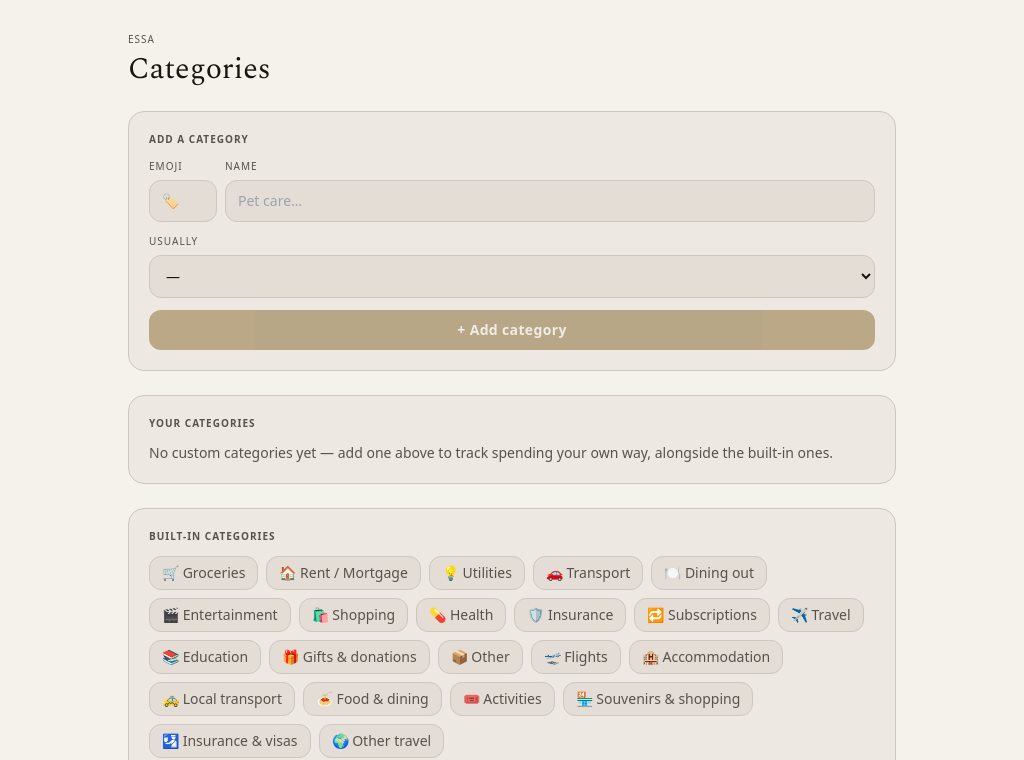
Test case: adding a category named like a built-in one is refused, and says why
Type "  shopping " into the field with id "new-cat-name" at (550, 201), box [225,180,875,222]
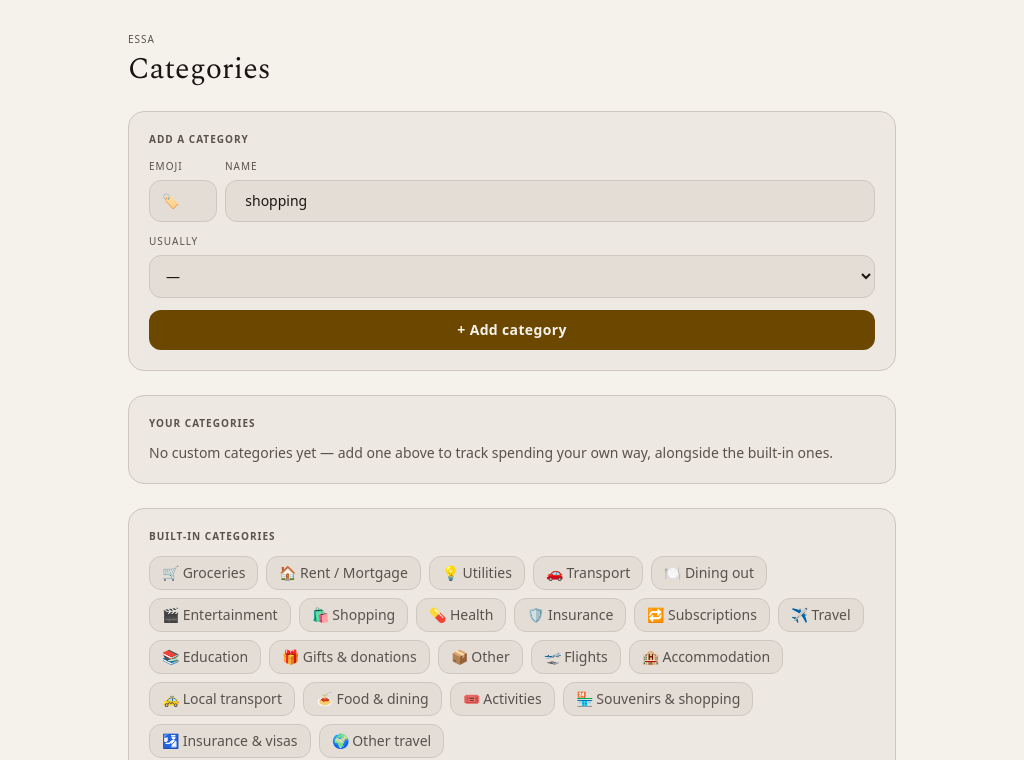
Click the button "+ Add category" at (512, 330), box [149,310,875,350]
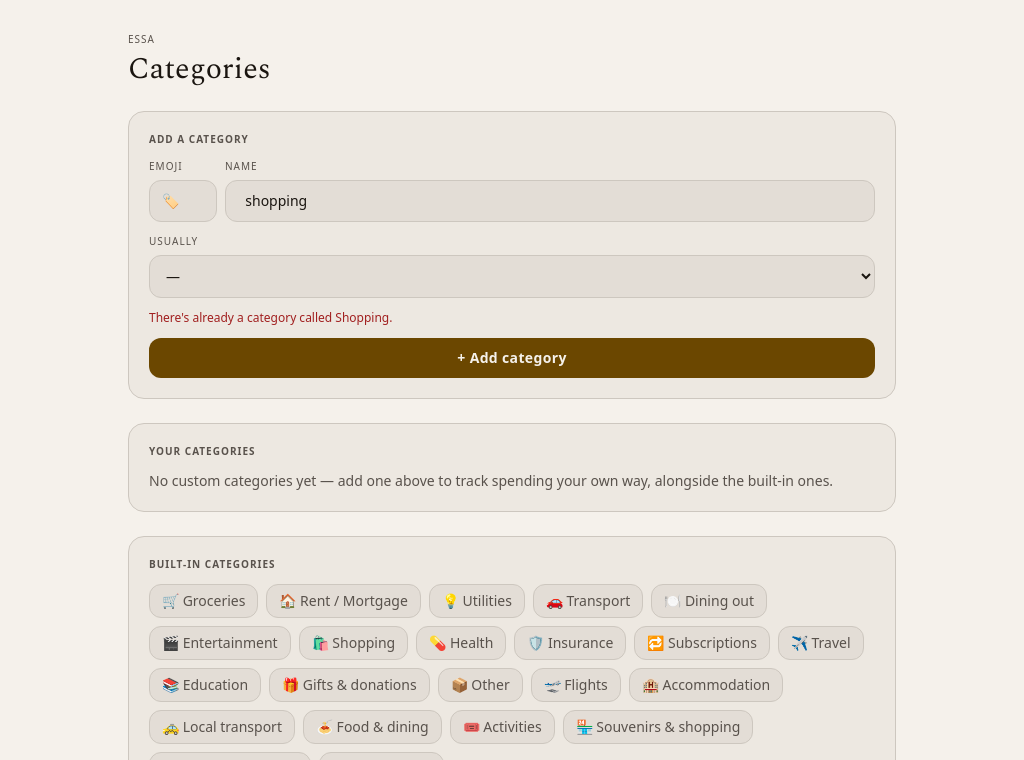
Check: the message reads "There's already a category called Shopping.", box [149,309,392,326]
